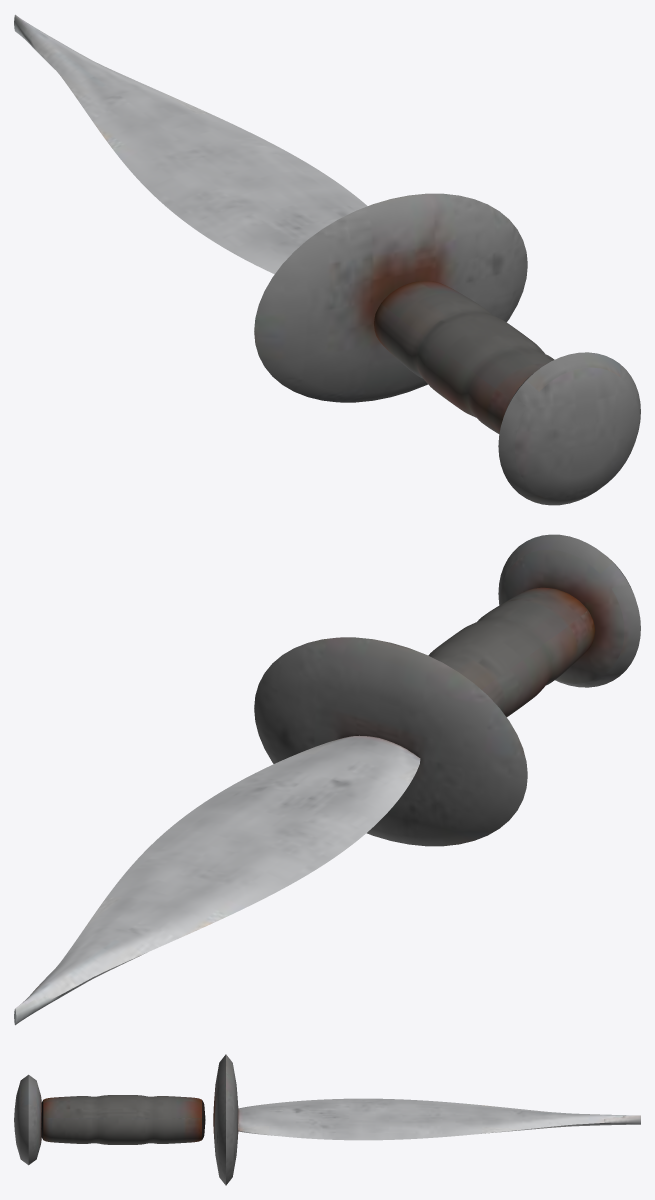
File: pugio.glb
The picture shows the model from 3 angles, top to bottom: view 1: azimuth 30°, elevation 25°; view 2: azimuth 150°, elevation 25°; view 3: azimuth 270°, elevation 25°; orthographic projection. The views are drawn at different scales.
Parts seen in each view (by area): view 1: pugio; view 2: pugio; view 3: pugio.
Boxes of the visible parts, x1,y1,x2,y2 form: pugio: (14, 14, 640, 505); pugio: (14, 534, 640, 1025); pugio: (14, 1054, 640, 1185).
Bounding box in the file's own units: 0.0946 × 0.0655 × 0.34.
1 material, 1 textured.
